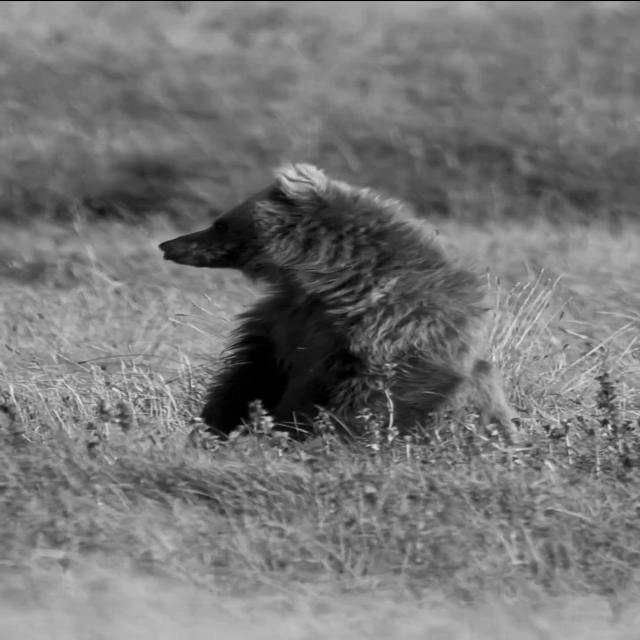Bear: (156, 162, 522, 454)
